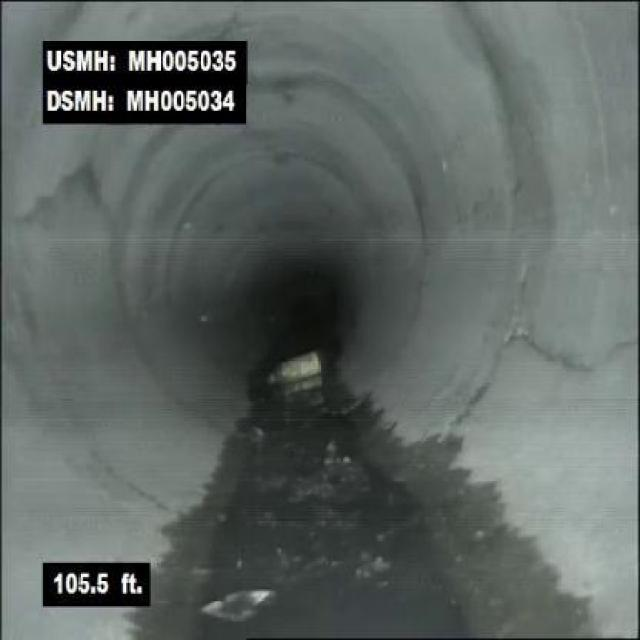Crack: (498, 316, 638, 422), (14, 151, 121, 243)
